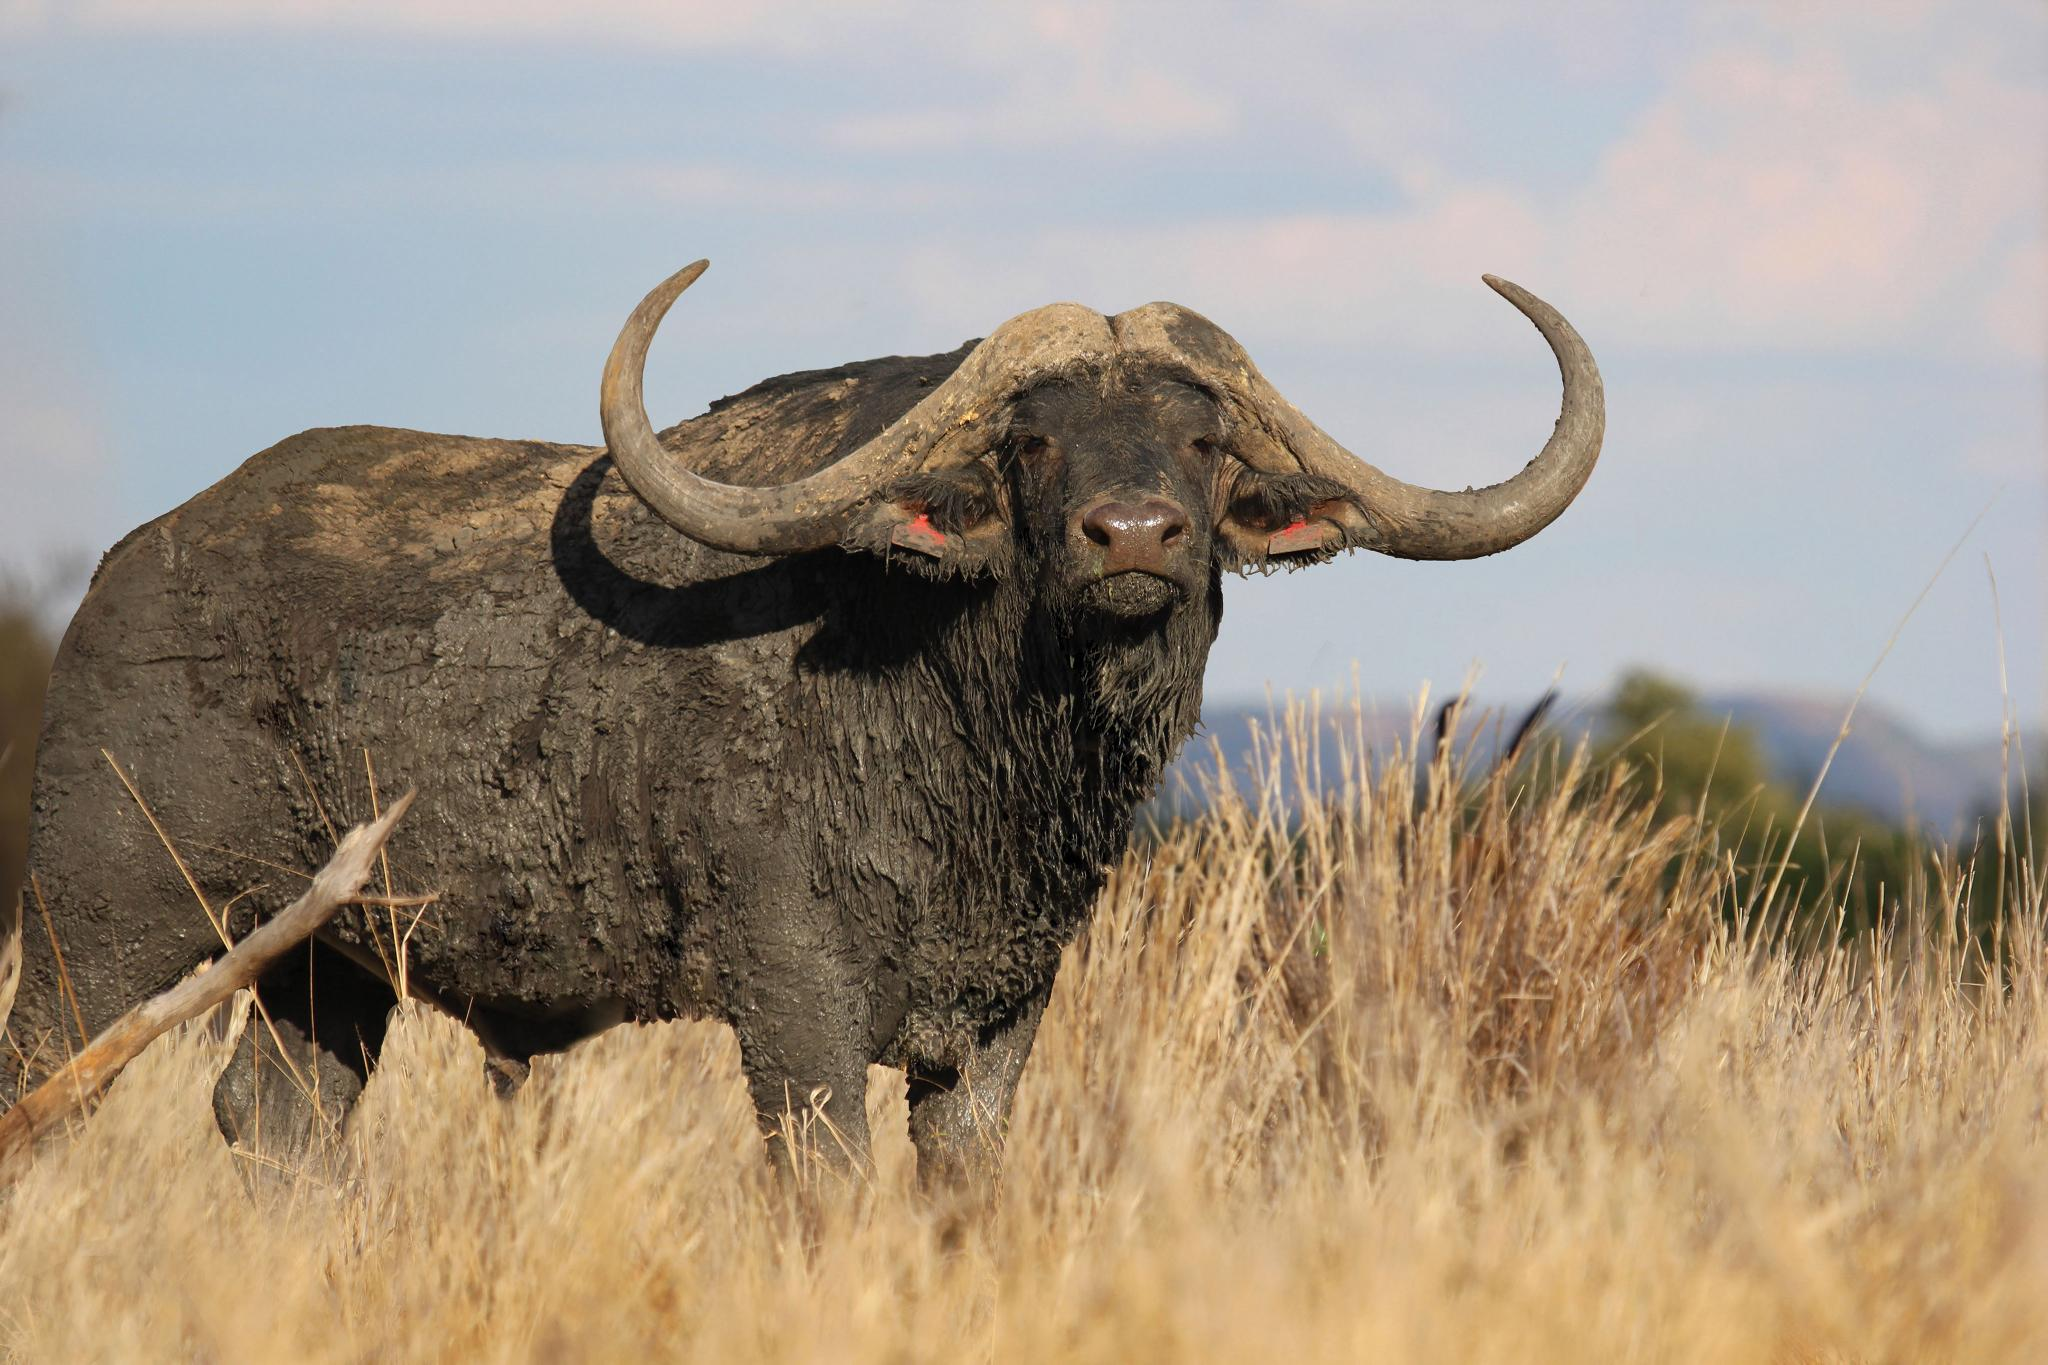Buffalo: (14, 30, 2048, 1365)
